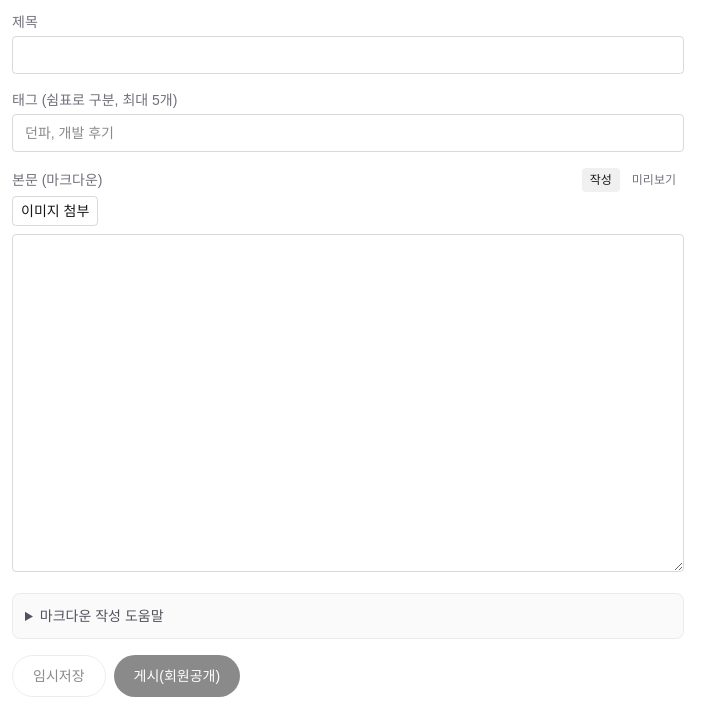
Test case: PostEditor 미리보기 › 빈 본문이면 미리보기에 안내 문구
Click the tab "미리보기" at (654, 180), box left=624, top=168, right=684, bottom=192
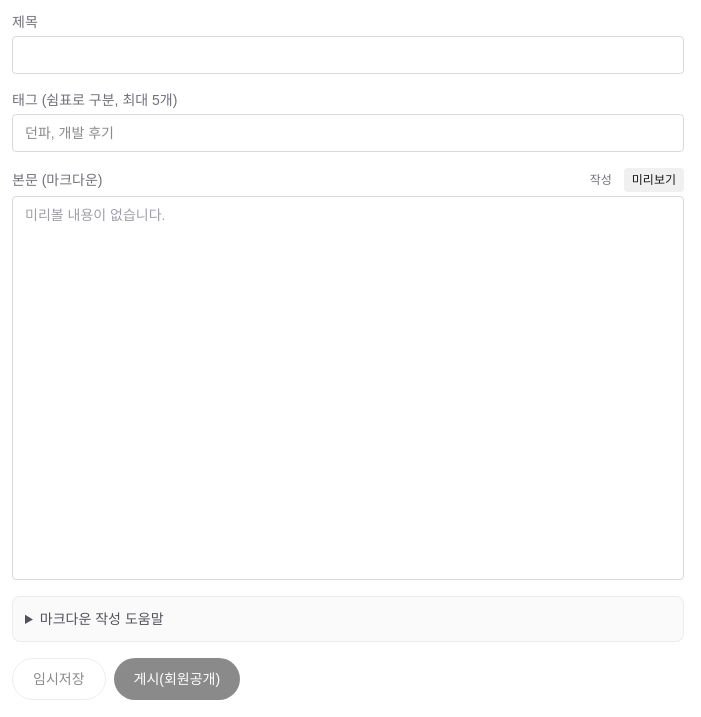
Expected: the text "미리볼 내용이 없습니다." is shown, left=25, top=207, right=166, bottom=223
